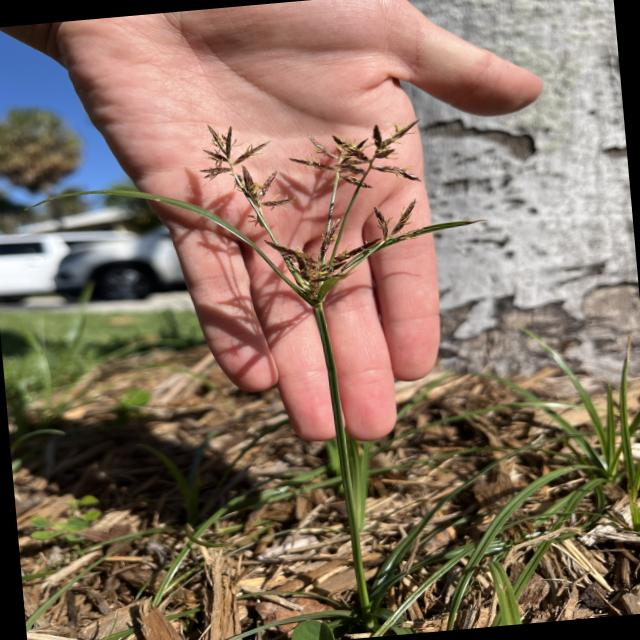cyperus: (166, 96, 478, 324)
